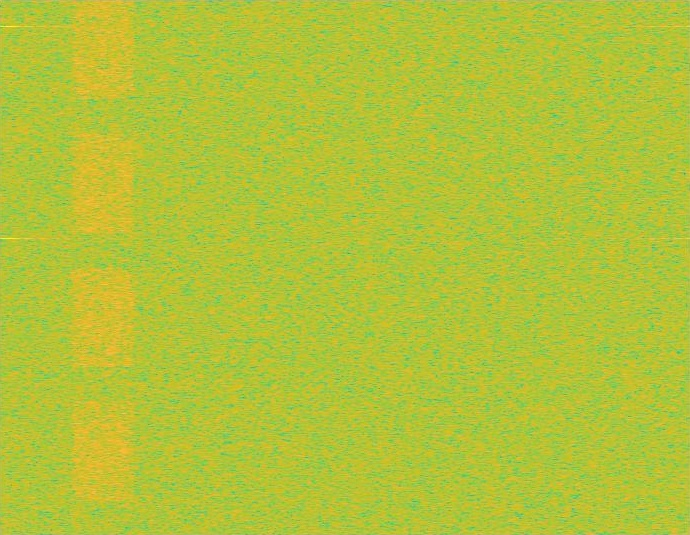5G: (69, 0, 138, 534)
Radar: (2, 0, 15, 534)
